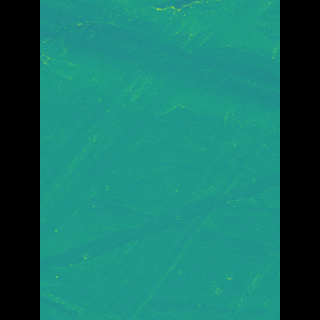Loch: (69, 0, 250, 269), (70, 0, 250, 123)
